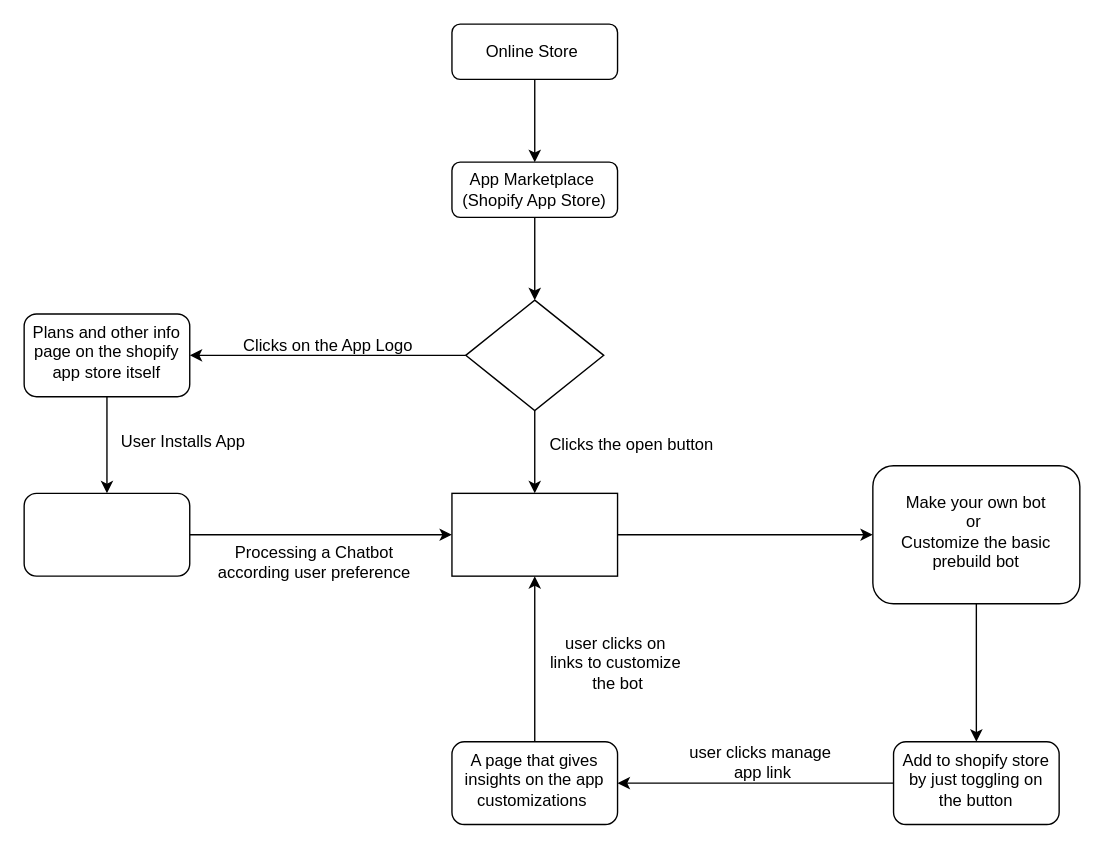
Some shapes in this 1104 by 849 pixel diagram are drawn without their labels. The centre of each missing label's shape, as x and y in pixels:
App: point (534, 355)
Shopify page to install the app: point (106, 534)
VAKX Interface: point (534, 534)
